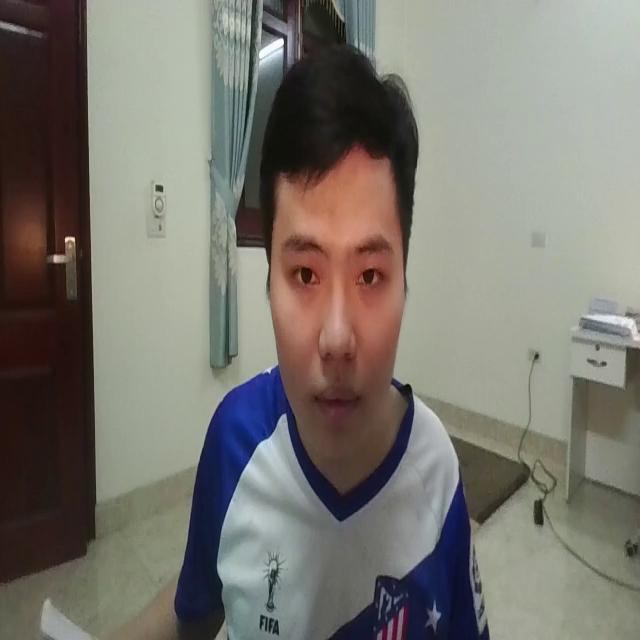student: (152, 30, 499, 640)
